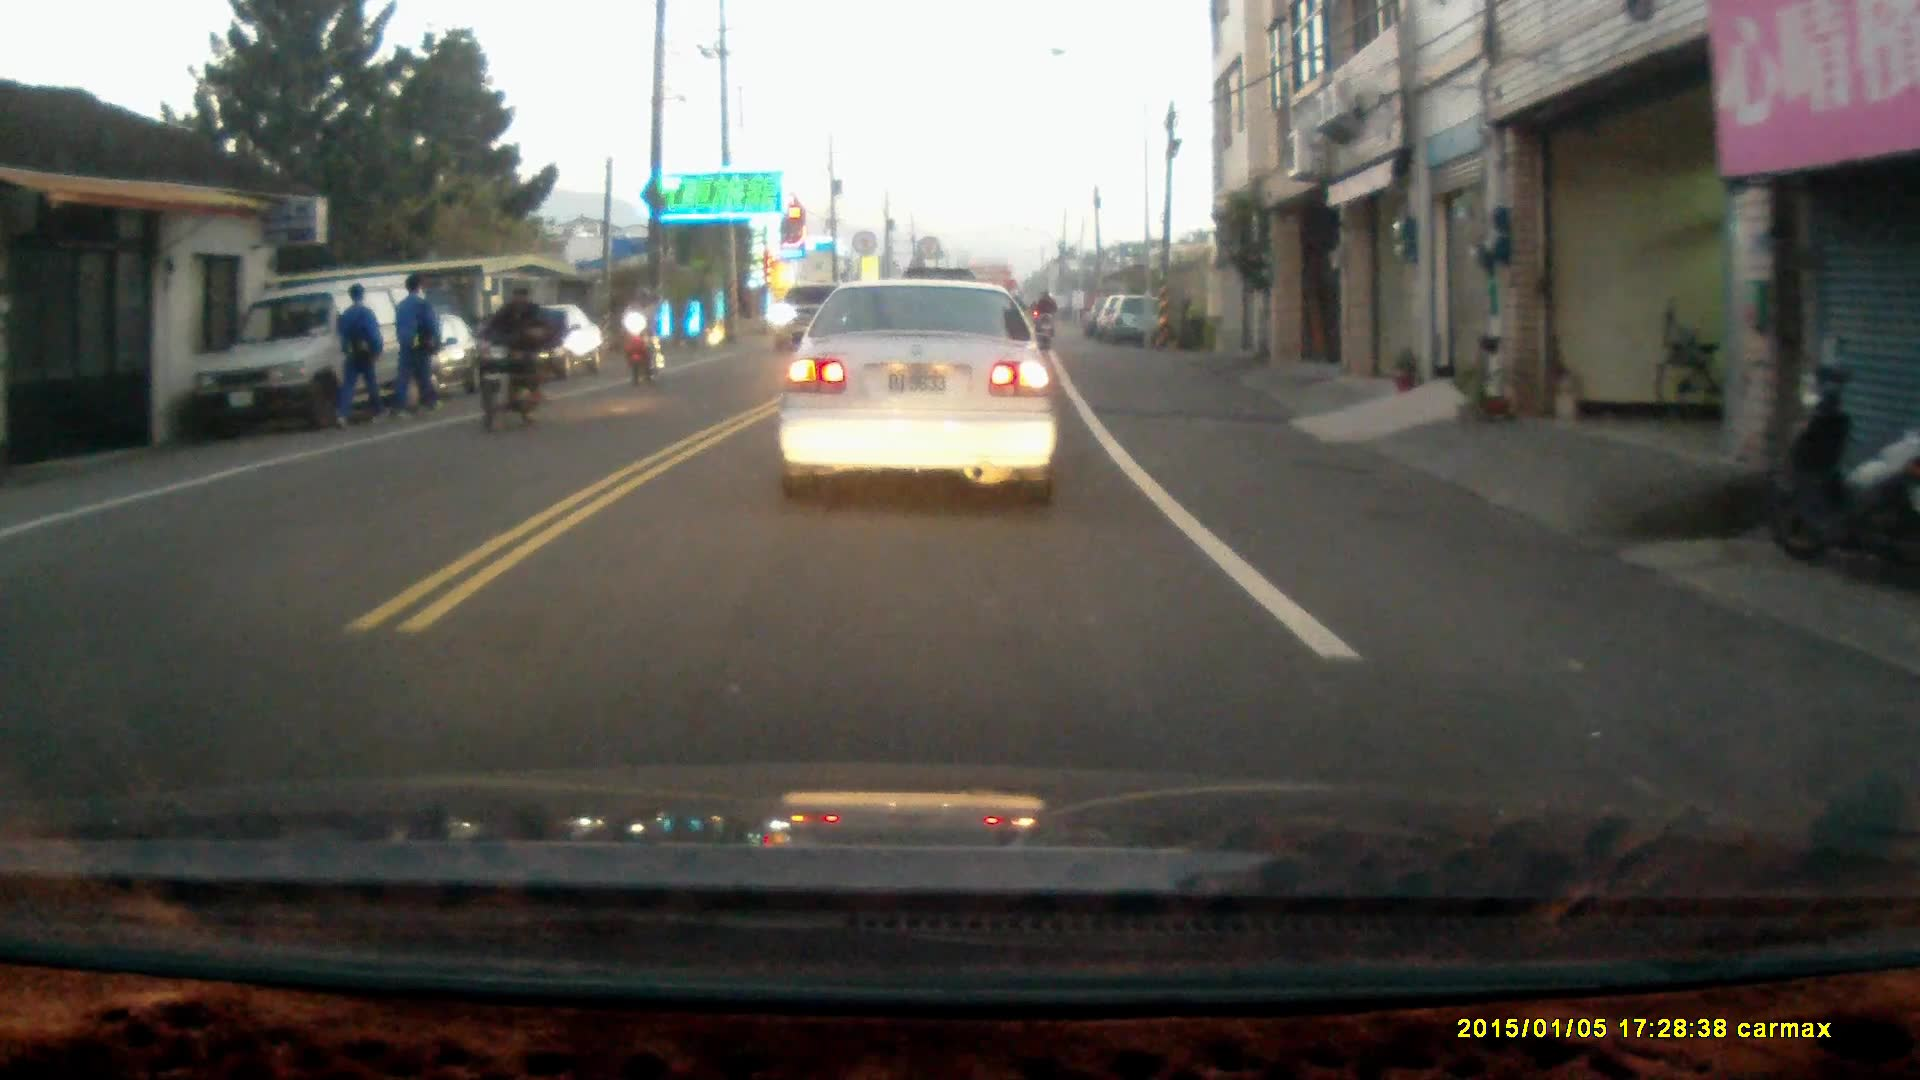pedestrian: (389, 269, 439, 421), (337, 278, 384, 427)
rider: (465, 276, 563, 432), (623, 287, 664, 386)
vehicle: (776, 277, 1062, 510), (192, 275, 441, 430), (469, 304, 599, 382), (1103, 299, 1168, 351)
